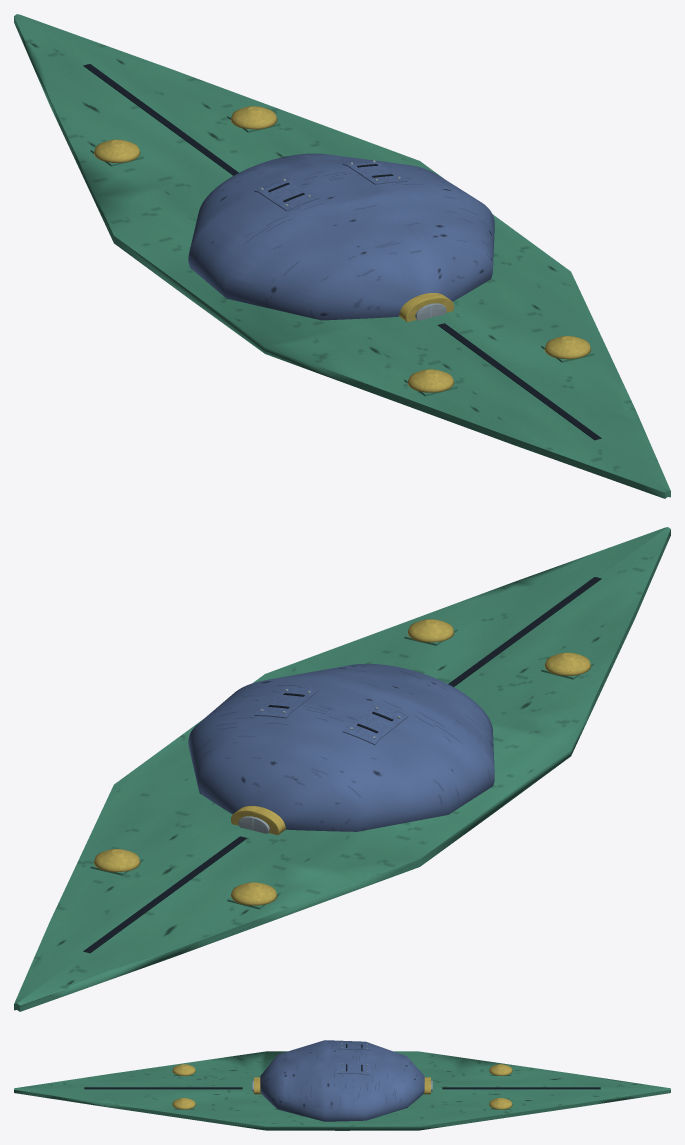
3 renders of one model, top to bottom at view 1: azimuth 30°, elevation 25°; view 2: azimuth 150°, elevation 25°; view 3: azimuth 270°, elevation 25°, orthographic. The views are drawn at different scales.
Parts seen in each view (by area): view 1: PrimaryHullAndArmour, ServiceAssemblies; view 2: PrimaryHullAndArmour, ServiceAssemblies; view 3: PrimaryHullAndArmour, ServiceAssemblies.
Part boxes in pixels (x1,y1,x2,y2): PrimaryHullAndArmour: [14, 14, 670, 498]; ServiceAssemblies: [254, 161, 407, 211]; PrimaryHullAndArmour: [14, 527, 670, 1011]; ServiceAssemblies: [254, 687, 407, 745]; PrimaryHullAndArmour: [14, 1040, 670, 1130]; ServiceAssemblies: [337, 1043, 370, 1075].
Bounding box in the file's own units: 1.52 × 0.5586 × 5.6.
1 material, 1 textured.
